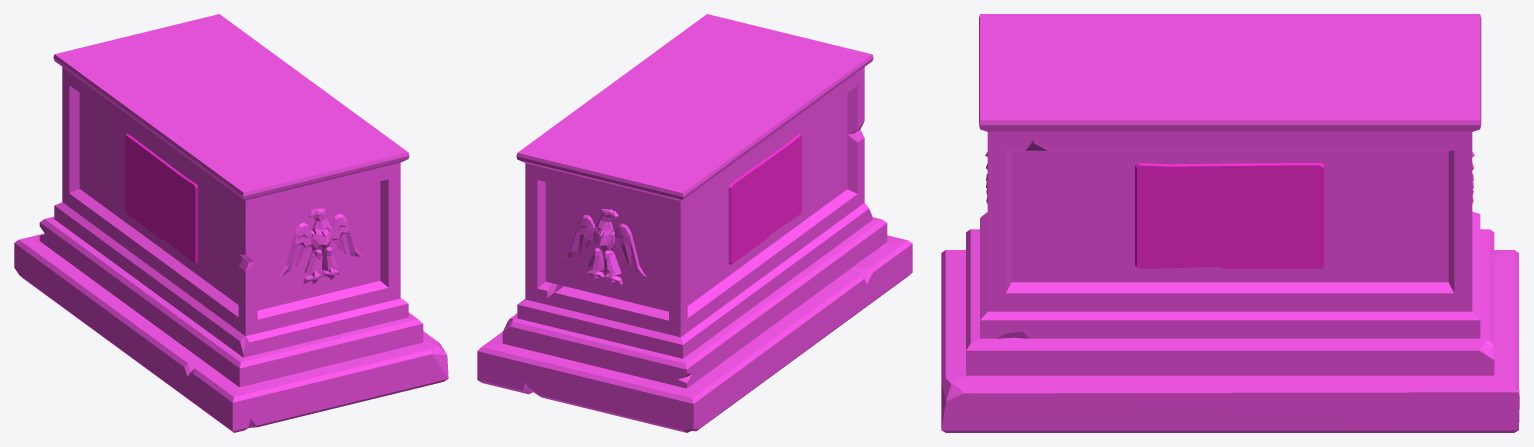
The model's file is SM_Pedestal_Long_B_Fantasy.fbx.
3 renders of one model, left to right at view 1: azimuth 30°, elevation 25°; view 2: azimuth 150°, elevation 25°; view 3: azimuth 270°, elevation 25°, orthographic. The views are drawn at different scales.
Parts seen in each view (by area): view 1: SM_Pedestal_Long_B_Fantasy; view 2: SM_Pedestal_Long_B_Fantasy; view 3: SM_Pedestal_Long_B_Fantasy.
Part boxes in pixels (left/top/right/bottom): SM_Pedestal_Long_B_Fantasy: left=14, top=14, right=448, bottom=432; SM_Pedestal_Long_B_Fantasy: left=477, top=14, right=912, bottom=432; SM_Pedestal_Long_B_Fantasy: left=941, top=14, right=1519, bottom=432.
Size of the model in its own units: 2.05 by 2.04 by 3.59.
